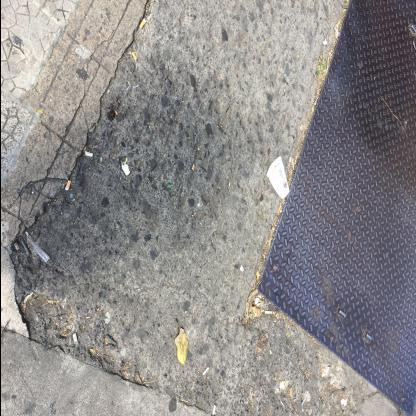karton: (266, 158, 290, 201)
